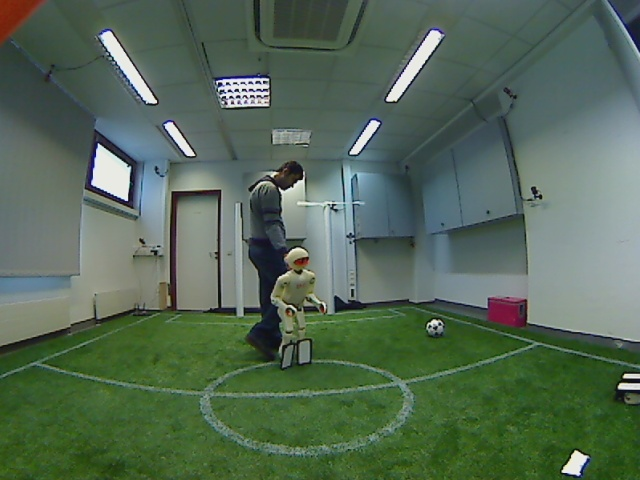ball: (423, 316, 449, 341)
robot: (269, 246, 327, 375)
